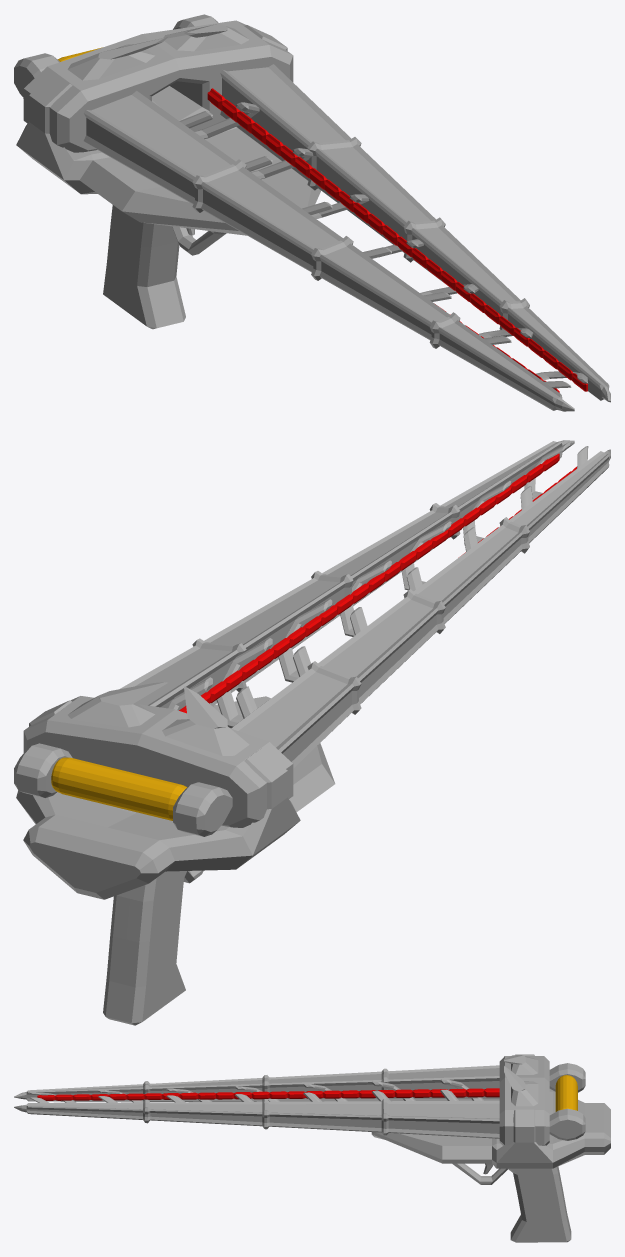
The model's file is Railgun.fbx.
3 views of the same model, one above another, from view 1: azimuth 30°, elevation 25°; view 2: azimuth 150°, elevation 25°; view 3: azimuth 270°, elevation 25° (orthographic). The views are drawn at different scales.
Visible parts, largest first — view 1: PlayerWeapon_Railgun1; view 2: PlayerWeapon_Railgun1; view 3: PlayerWeapon_Railgun1.
Boxes of the visible parts, <box> form: PlayerWeapon_Railgun1: <box>14,14,610,411</box>; PlayerWeapon_Railgun1: <box>14,440,610,1025</box>; PlayerWeapon_Railgun1: <box>14,1054,610,1242</box>.
Size of the model in its own units: 0.2234 by 0.2623 by 0.8093.
